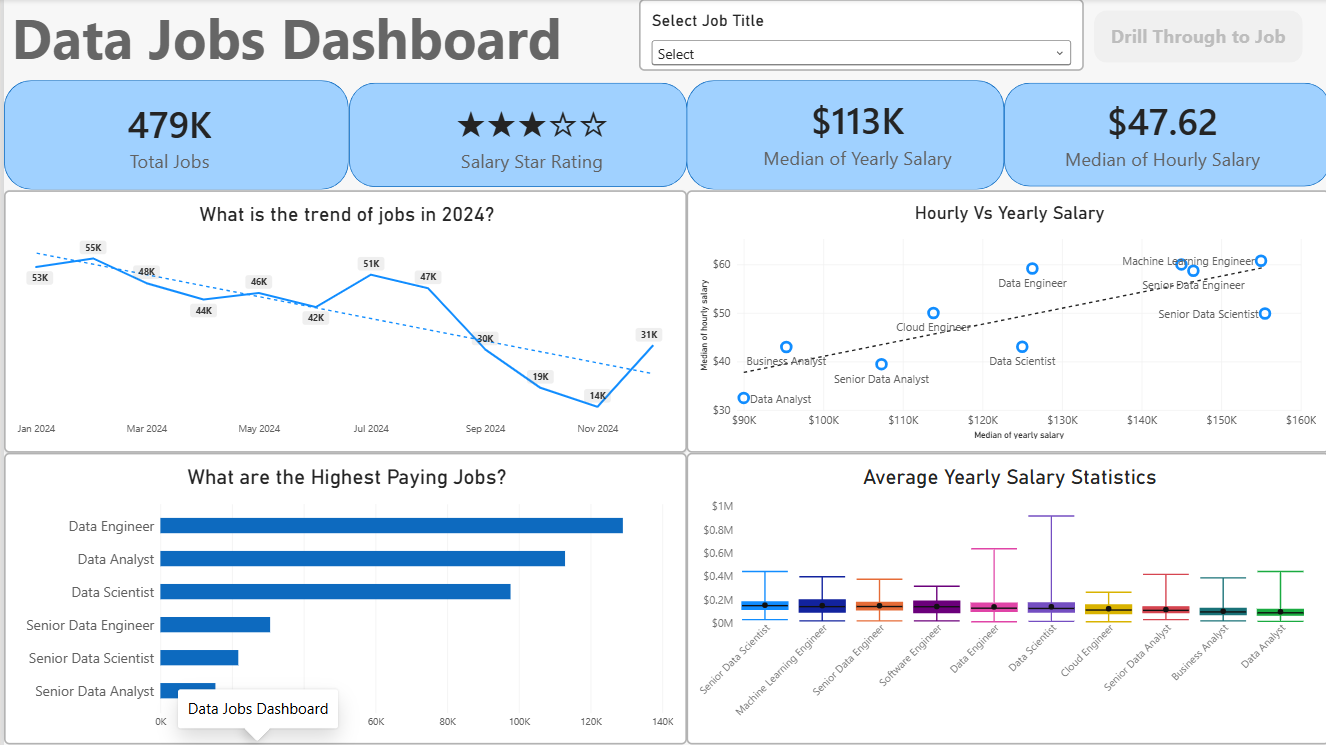

This screenshot's page, from the dashboard's own definition file:
{"tool":"powerbi","page":{"name":"Data Jobs Dashboard","canvas":[1920,1080],"ordinal":0},"visuals":[{"type":"group","id":"g1","title":"Group 1","box":[0,117.7,1920.1,158.9],"z":0},{"type":"shape","box":[0,118.3,499,158.3],"z":0,"group":"g1"},{"type":"textbox","box":[10.7,0,1032.7,134.7],"z":1000},{"type":"shape","box":[1447.7,121.2,472.3,150.2],"z":1000,"group":"g1"},{"type":"listSlicer","title":"Select Job Title","fields":{"Values":["job_postings_flat.job_title_short"]},"box":[919.8,0,644.2,104.3],"z":2000},{"type":"shape","box":[988.7,117.7,459.9,158.3],"z":2000,"group":"g1"},{"type":"shape","box":[499,121.4,489.7,150.8],"z":3000,"group":"g1"},{"type":"cardVisual","fields":{"Data":["CountNonNull(job_postings_flat.job_title_short)"]},"box":[31.7,141.5,418.9,115.4],"z":3000},{"type":"cardVisual","fields":{"Data":["Table.Salary Star Rating"]},"box":[569.8,134.1,389.1,128.5],"z":4000},{"type":"cardVisual","fields":{"Data":["Median(job_postings_flat.salary_year_avg)"]},"box":[1044.5,130.3,383.6,126.6],"z":5000},{"type":"cardVisual","fields":{"Data":["Median(job_postings_flat.salary_hour_avg)"]},"box":[1474.6,134.1,405.9,121],"z":6000},{"type":"lineChart","title":"What is the trend of jobs in 2024?","fields":{"Category":["job_postings_flat.job_posted_date.Variation.Date Hierarchy.Year","job_postings_flat.job_posted_date.Variation.Date Hierarchy.Quarter","job_postings_flat.job_posted_date.Variation.Date Hierarchy.Month","job_postings_flat.job_posted_date.Variation.Date Hierarchy.Day"],"Y":["CountNonNull(job_postings_flat.job_title_short)"]},"box":[0,277.4,988.7,379.8],"z":7000},{"type":"clusteredBarChart","title":"What are the Highest Paying Jobs?","fields":{"Category":["job_postings_flat.job_title_short"],"Y":["CountNonNull(job_postings_flat.job_title_short)"]},"box":[0,657.3,988.7,422.7],"z":8000},{"type":"scatterChart","title":"Hourly Vs Yearly Salary","fields":{"Category":["job_postings_flat.job_title_short"],"X":["Median(job_postings_flat.salary_year_avg)"],"Y":["Median(job_postings_flat.salary_hour_avg)"]},"box":[988.7,277.4,931,379.8],"z":9000},{"type":"BoxWhiskerChart1455240051538","title":"Average Yearly Salary Statistics","fields":{"Groups":["job_postings_flat.job_title_short"],"Values":["Median(job_postings_flat.salary_year_avg)"],"Samples":["job_postings_flat.salary_year_avg"]},"box":[988.7,657.3,931,422.7],"z":10000},{"type":"actionButton","box":[1578,16.3,302.2,76],"z":10001}]}

Visuals, with their boxes in screenshot pixels (x1, y1, x2, y2), scaled from the page's 1920x1080 canvas onto the 1326x745 screenshot:
"Group 1" group: {"x1": 0, "y1": 81, "x2": 1325, "y2": 191}
shape: {"x1": 0, "y1": 82, "x2": 345, "y2": 191}
textbox: {"x1": 7, "y1": 0, "x2": 721, "y2": 93}
shape: {"x1": 1000, "y1": 84, "x2": 1325, "y2": 187}
"Select Job Title" listSlicer: {"x1": 635, "y1": 0, "x2": 1080, "y2": 72}
shape: {"x1": 683, "y1": 81, "x2": 1000, "y2": 190}
shape: {"x1": 345, "y1": 84, "x2": 683, "y2": 188}
cardVisual - CountNonNull(job_postings_flat.job_title_short): {"x1": 22, "y1": 98, "x2": 311, "y2": 177}
cardVisual - Table.Salary Star Rating: {"x1": 394, "y1": 93, "x2": 662, "y2": 181}
cardVisual - Median(job_postings_flat.salary_year_avg): {"x1": 721, "y1": 90, "x2": 986, "y2": 177}
cardVisual - Median(job_postings_flat.salary_hour_avg): {"x1": 1018, "y1": 93, "x2": 1299, "y2": 176}
"What is the trend of jobs in 2024?" lineChart: {"x1": 0, "y1": 191, "x2": 683, "y2": 453}
"What are the Highest Paying Jobs?" clusteredBarChart: {"x1": 0, "y1": 453, "x2": 683, "y2": 744}
"Hourly Vs Yearly Salary" scatterChart: {"x1": 683, "y1": 191, "x2": 1325, "y2": 453}
"Average Yearly Salary Statistics" BoxWhiskerChart1455240051538: {"x1": 683, "y1": 453, "x2": 1325, "y2": 744}
actionButton: {"x1": 1090, "y1": 11, "x2": 1299, "y2": 64}
